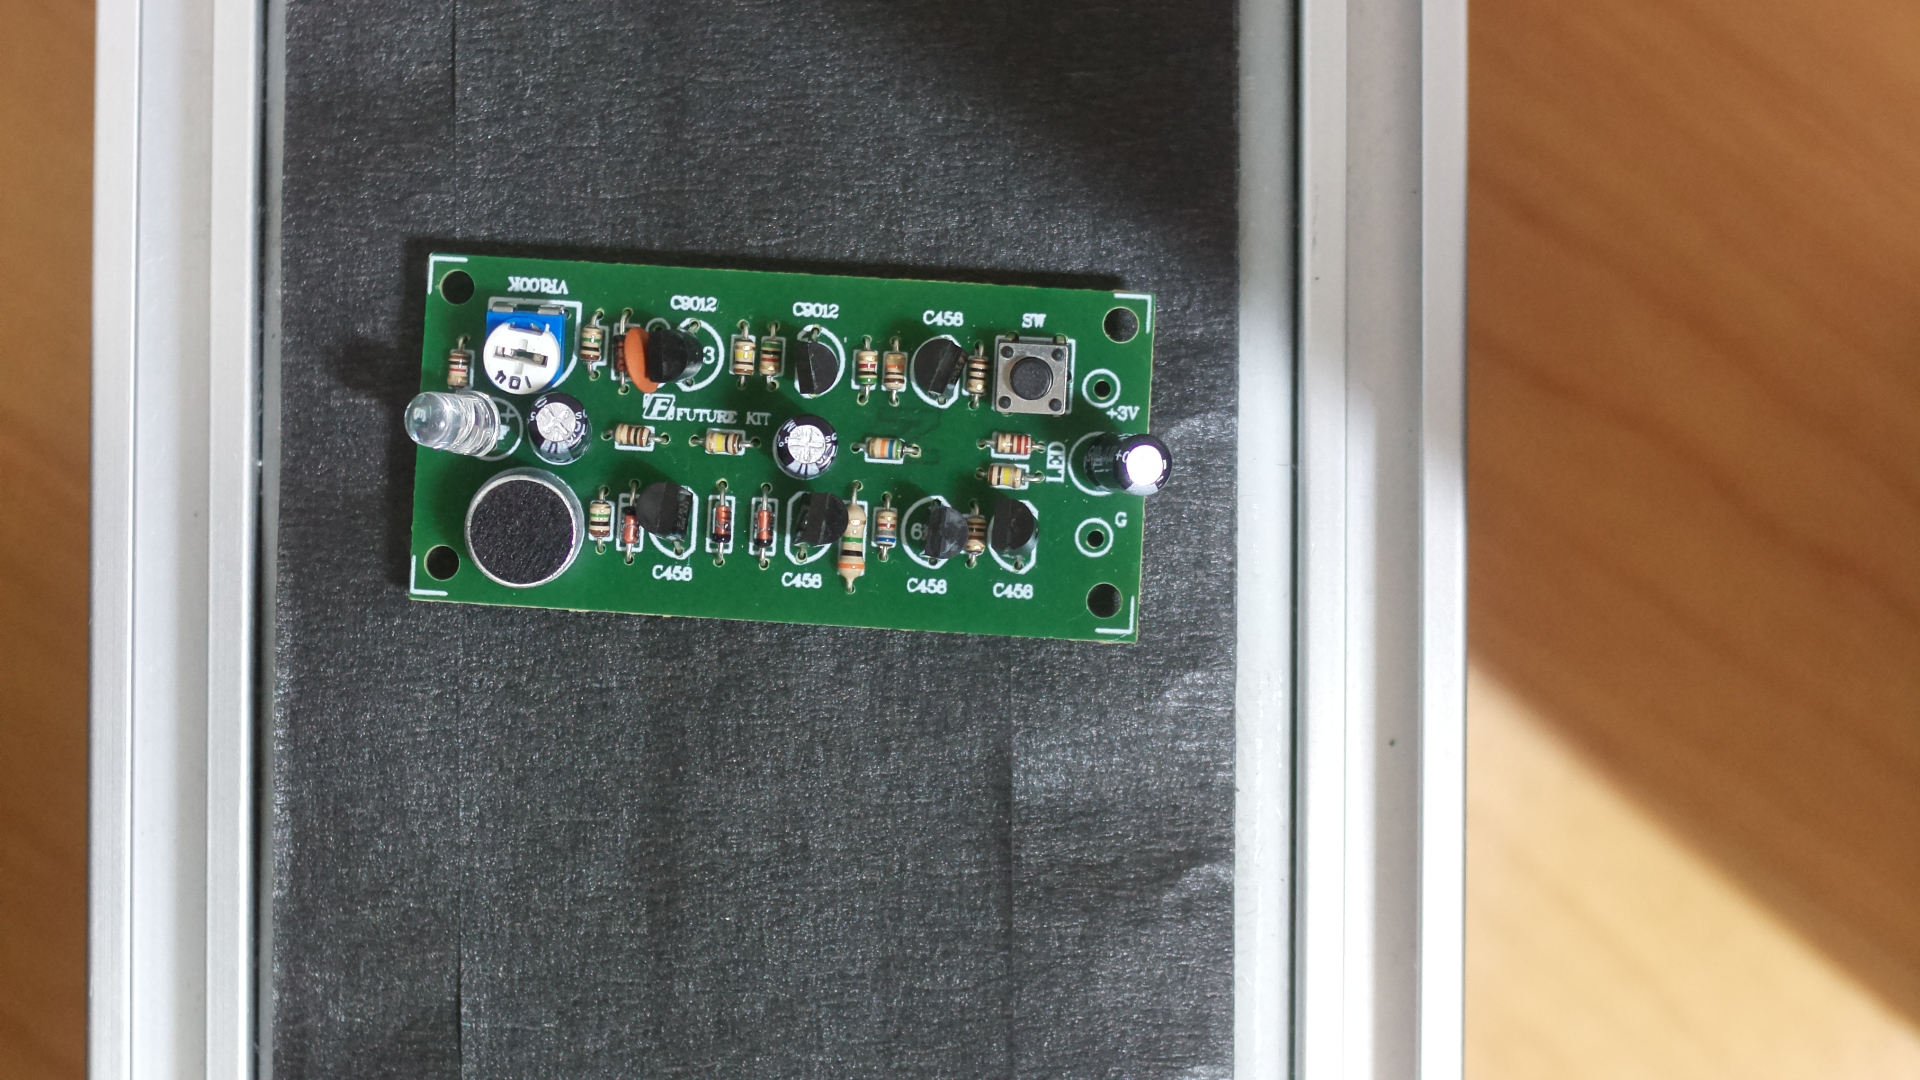A_Misordered: (402, 239, 1171, 675)
